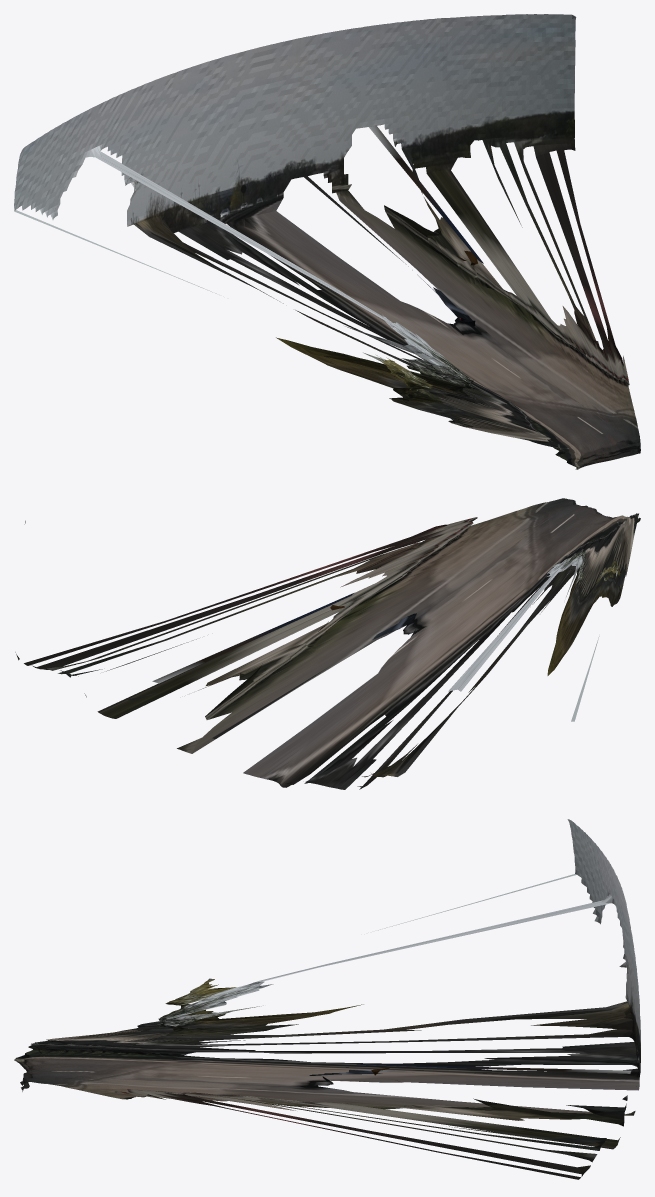
3 renders of one model, top to bottom at view 1: azimuth 30°, elevation 25°; view 2: azimuth 150°, elevation 25°; view 3: azimuth 270°, elevation 25°, orthographic. The views are drawn at different scales.
Visible parts, largest first — view 1: defaultobject; view 2: defaultobject; view 3: defaultobject.
Boxes of the visible parts, <box> form: defaultobject: <box>14,14,640,469</box>; defaultobject: <box>15,498,640,789</box>; defaultobject: <box>14,819,640,1179</box>.
Size of the model in its own units: 41.05 by 12.47 by 44.57.
1 material, 1 textured.
